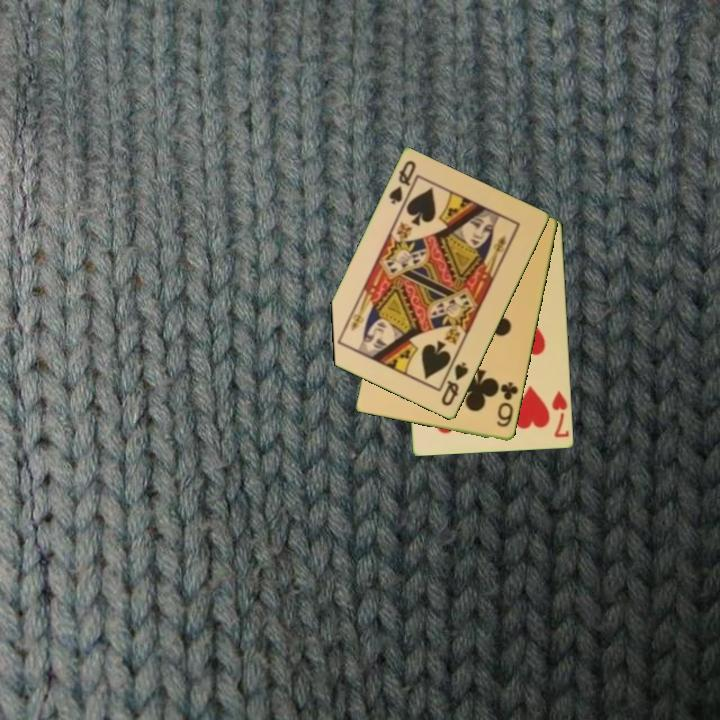6c: (493, 379, 521, 430)
7h: (548, 387, 572, 440)
Qs: (385, 157, 420, 212), (438, 358, 471, 409)
